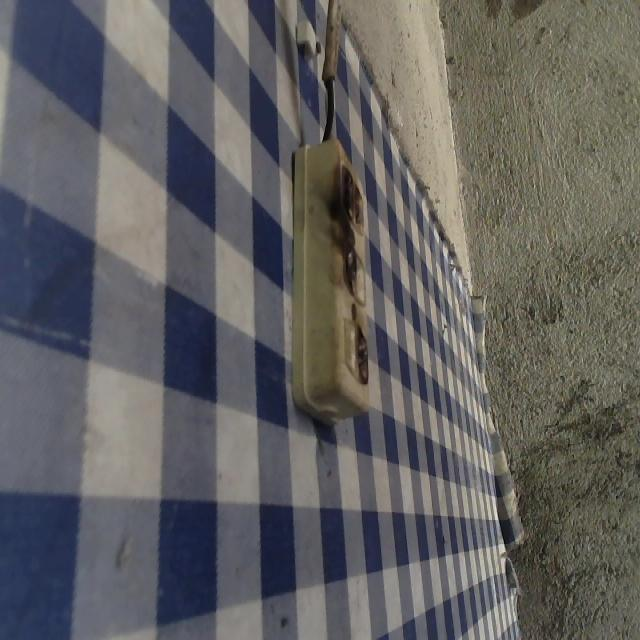-: (328, 158, 371, 234), (351, 315, 374, 389), (342, 235, 361, 305)
